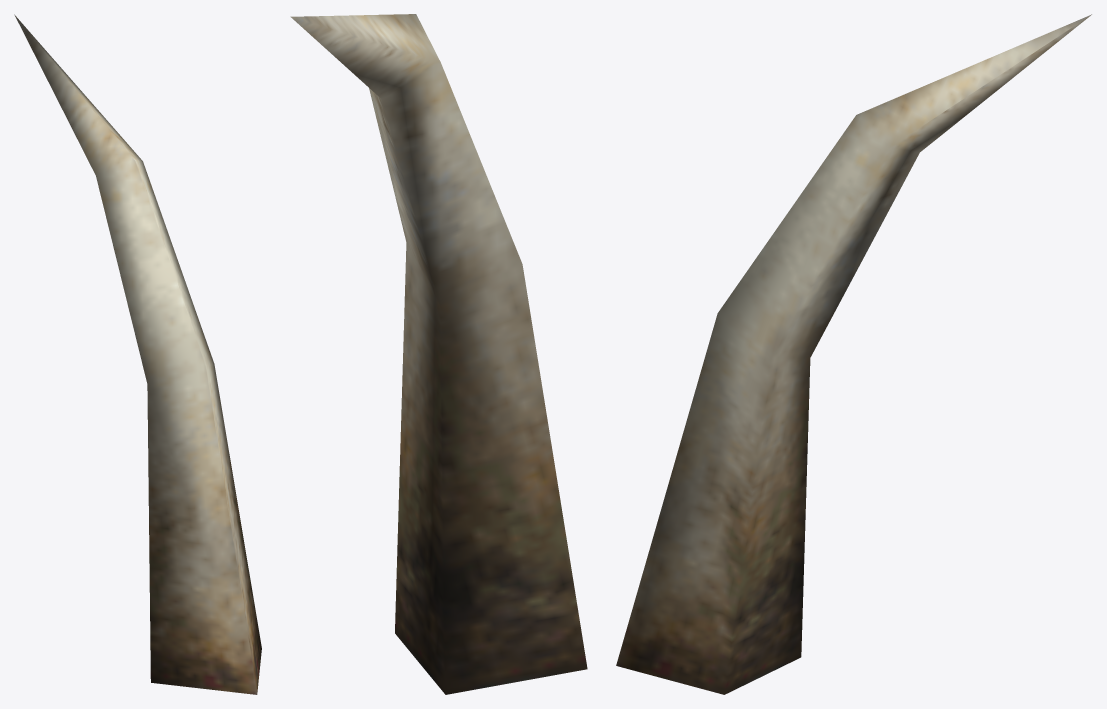
Rendered from SC_tamalagebi_33.FBX.
3 renders of one model, left to right at view 1: azimuth 30°, elevation 25°; view 2: azimuth 150°, elevation 25°; view 3: azimuth 270°, elevation 25°, orthographic. The views are drawn at different scales.
Parts seen in each view (by area): view 1: SC_tamalagebi_33; view 2: SC_tamalagebi_33; view 3: SC_tamalagebi_33.
Boxes of the visible parts, box(x1,y1,x2,y2) form: SC_tamalagebi_33: box(14, 14, 261, 694); SC_tamalagebi_33: box(290, 14, 587, 694); SC_tamalagebi_33: box(616, 14, 1091, 694).
Size of the model in its own units: 126 by 550 by 377.
